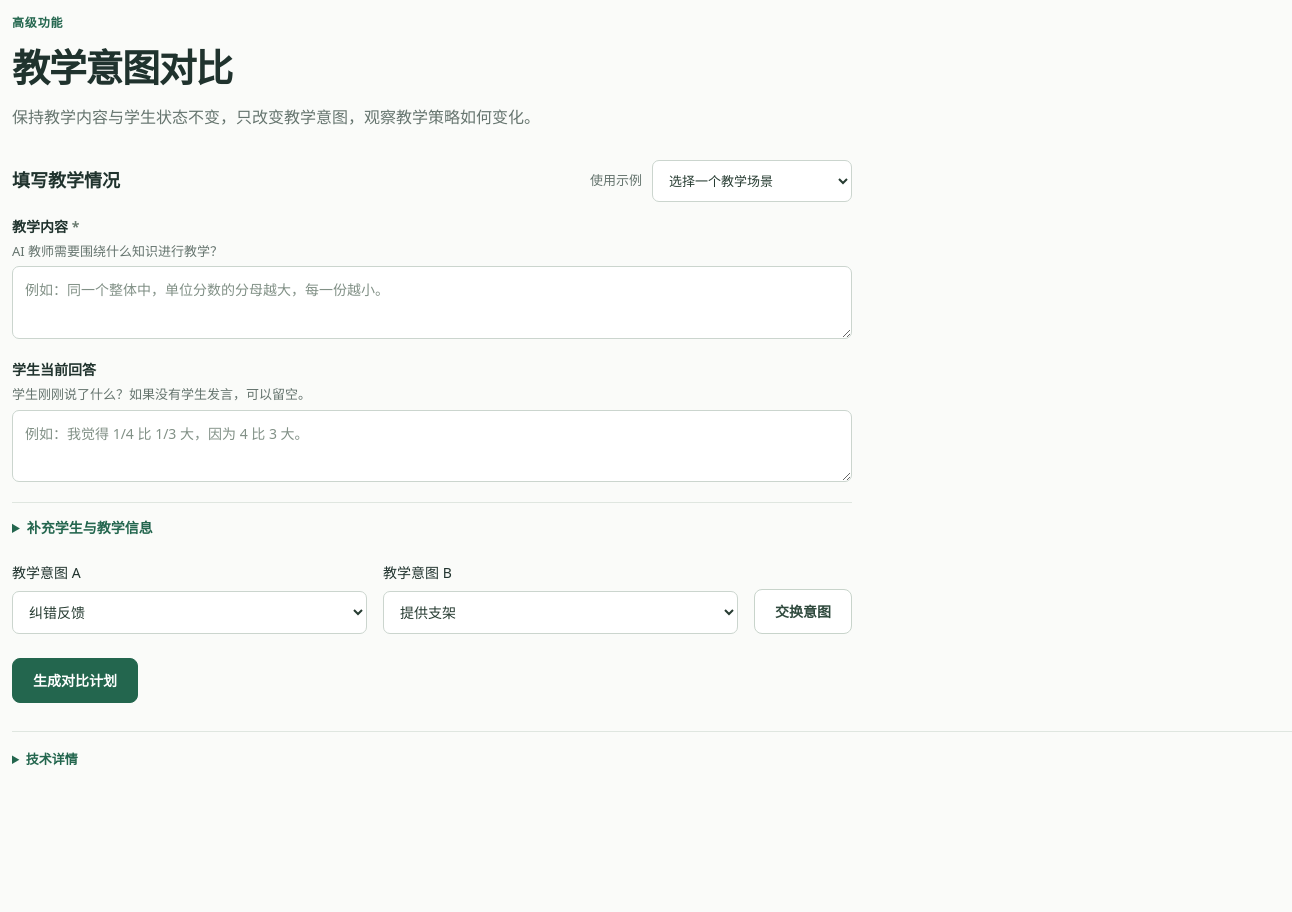
Test: hides raw failures while giving an actionable Chinese message
Select "分数大小纠错" in the dropdown labelled "使用示例" at {"x": 752, "y": 181}, box [652, 160, 852, 202]
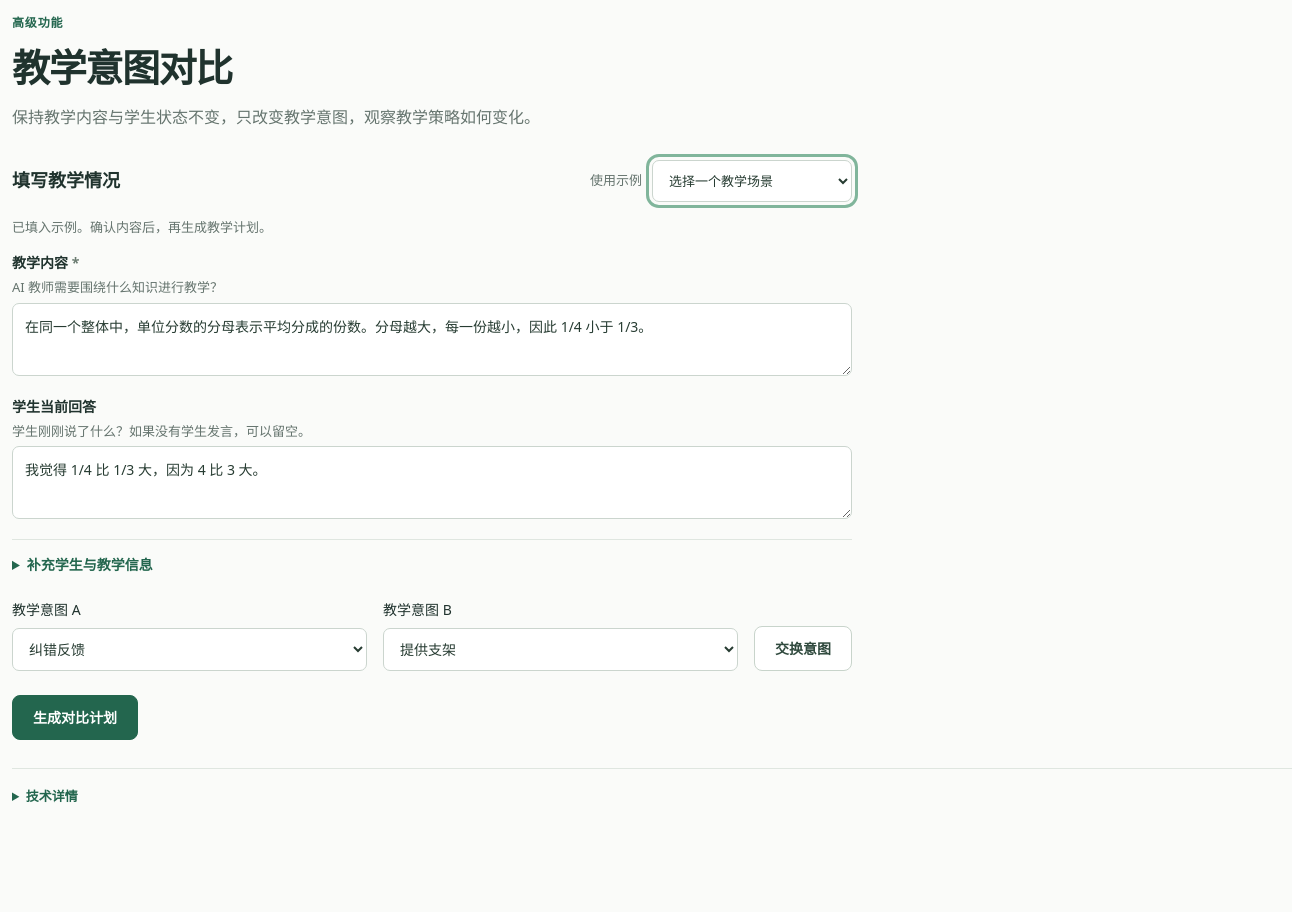
Click the button "生成对比计划" at {"x": 75, "y": 717}, box [12, 695, 138, 740]
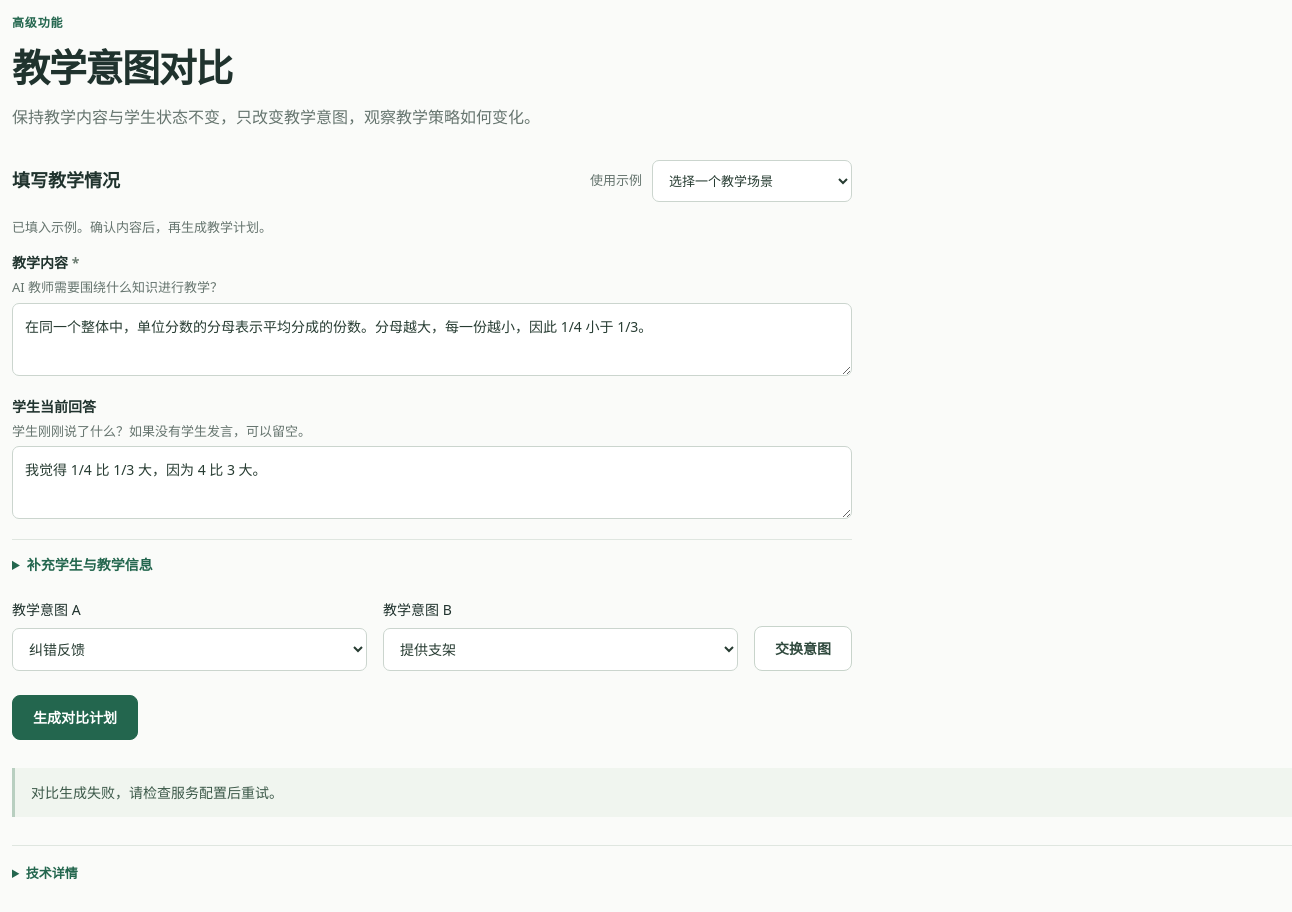
expect the message "对比生成失败，请检查服务配置后重试。" is shown: met, box [12, 768, 1291, 817]
